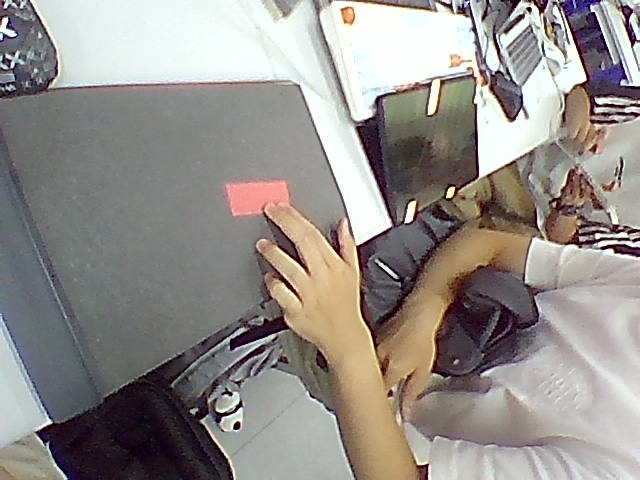card: (226, 180, 289, 216)
